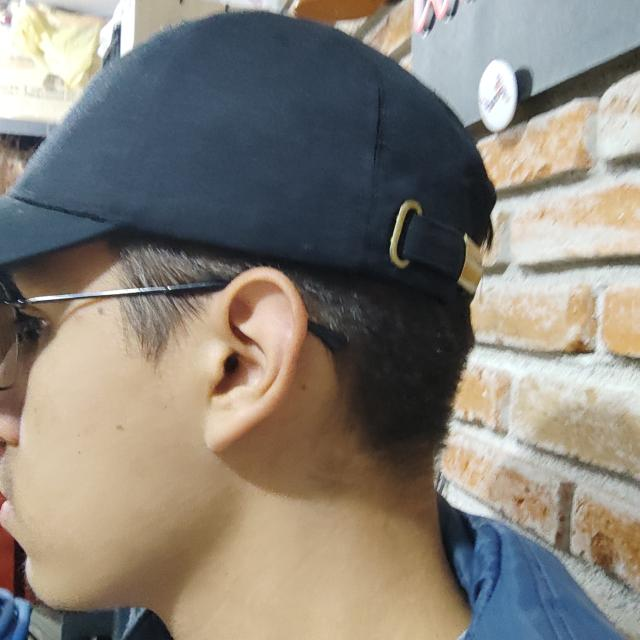ear: (194, 266, 308, 454)
